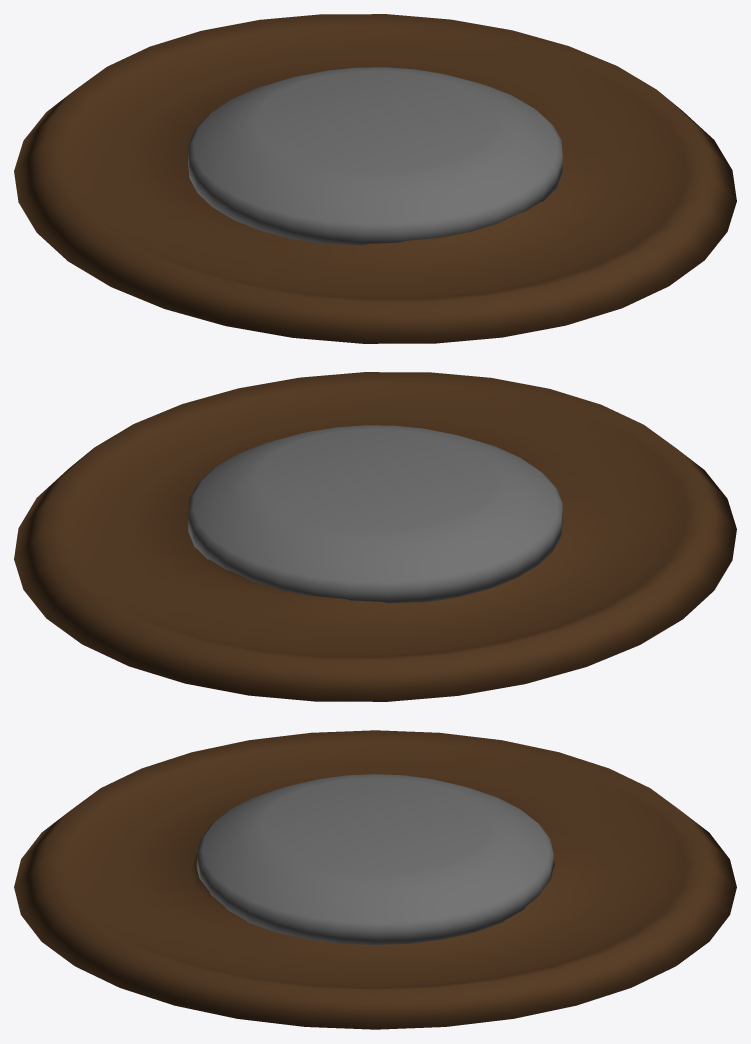
Rendered from Button.fbx.
3 renders of one model, top to bottom at view 1: azimuth 30°, elevation 25°; view 2: azimuth 150°, elevation 25°; view 3: azimuth 270°, elevation 25°, orthographic. The views are drawn at different scales.
Visible parts, largest first — view 1: Cylinder, Cylinder.001; view 2: Cylinder, Cylinder.001; view 3: Cylinder, Cylinder.001.
Part boxes in pixels (<box>): Cylinder: <box>14,14,736,343</box>; Cylinder.001: <box>188,67,562,245</box>; Cylinder: <box>14,372,736,701</box>; Cylinder.001: <box>188,425,562,603</box>; Cylinder: <box>14,730,736,1029</box>; Cylinder.001: <box>197,774,553,944</box>.
Bounding box in the file's own units: 204 × 20.3 × 219.
